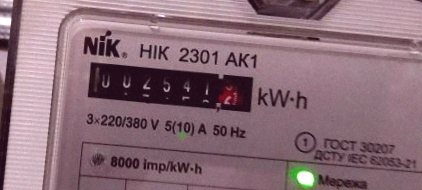0: (97, 67, 112, 89), (119, 67, 133, 89)
1: (199, 73, 212, 97)
2: (138, 68, 155, 91)
4: (179, 71, 192, 93)
5: (158, 70, 173, 94)
6: (220, 92, 233, 105)
screen: (73, 49, 266, 122)
